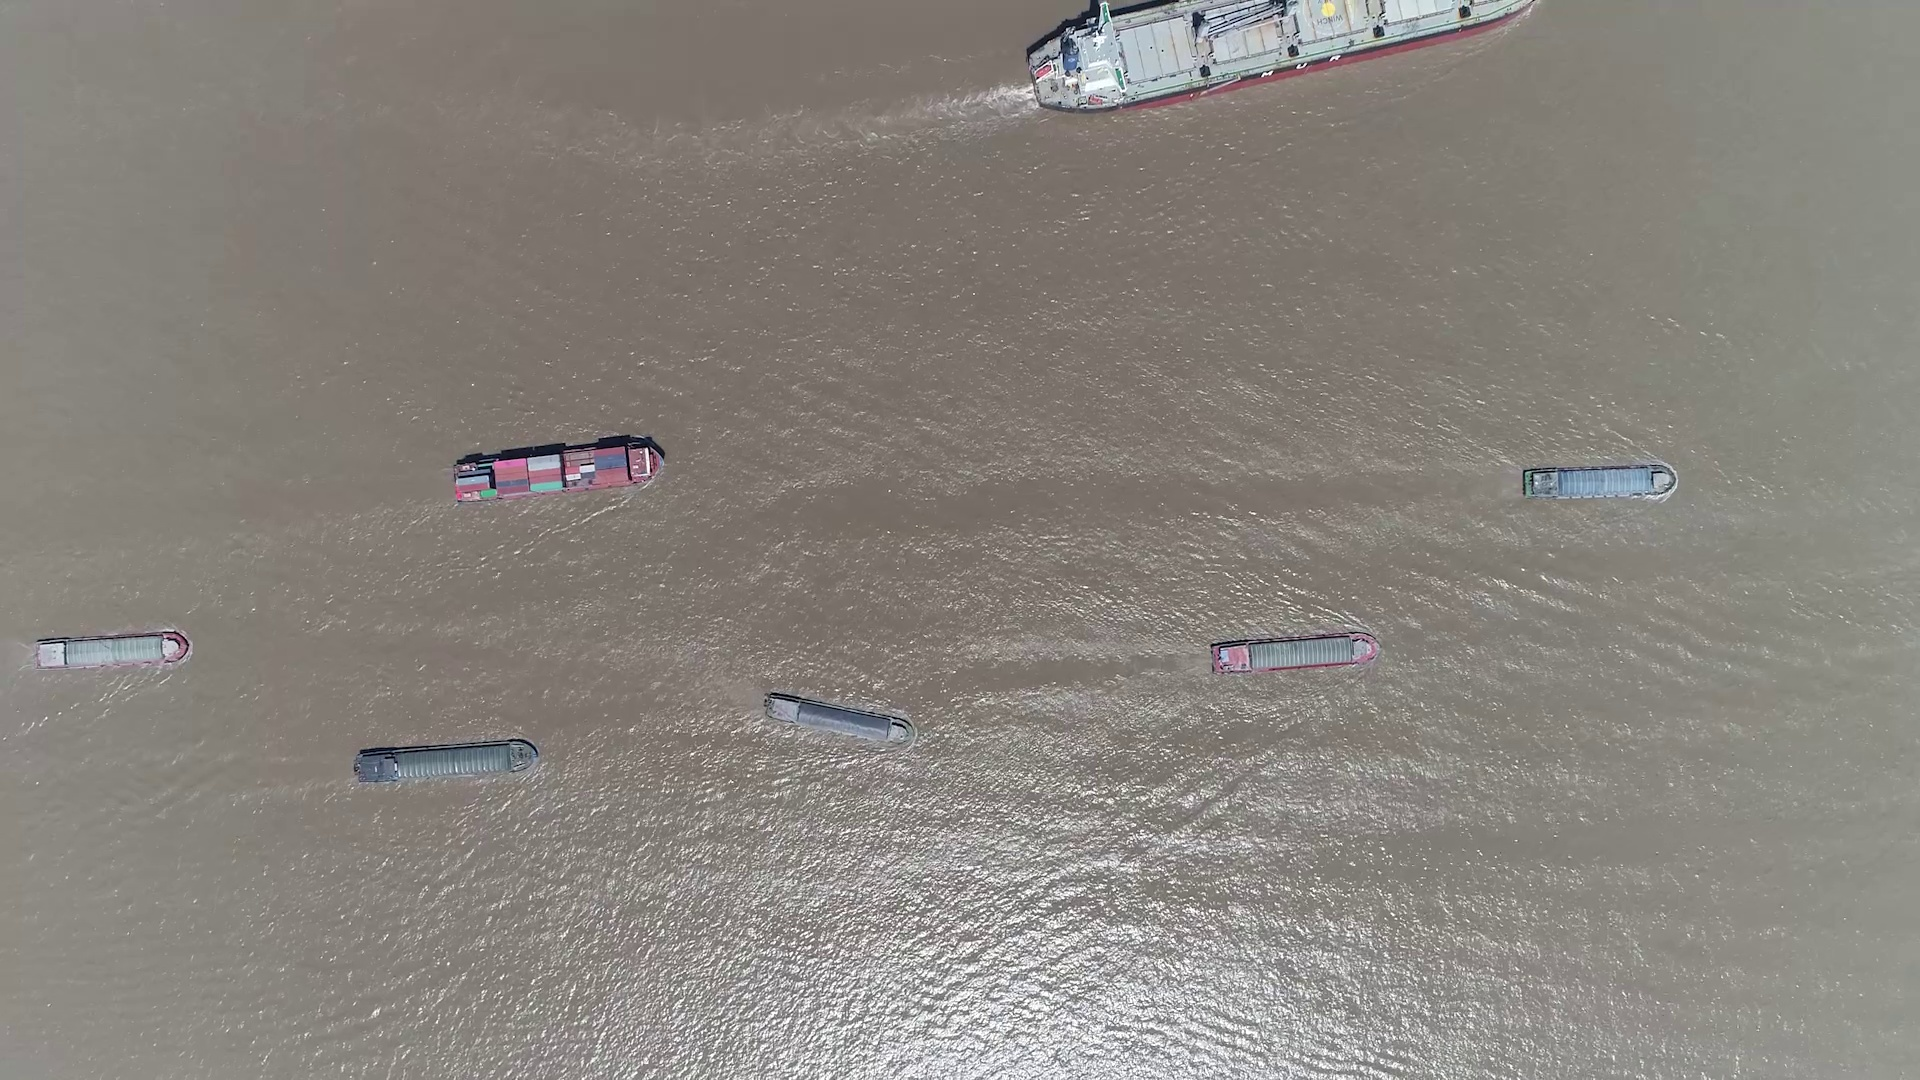ship: (1029, 3, 1539, 109), (451, 439, 665, 502), (353, 738, 538, 785), (762, 692, 913, 746), (1215, 634, 1379, 674), (32, 632, 190, 671), (1523, 464, 1675, 498)
